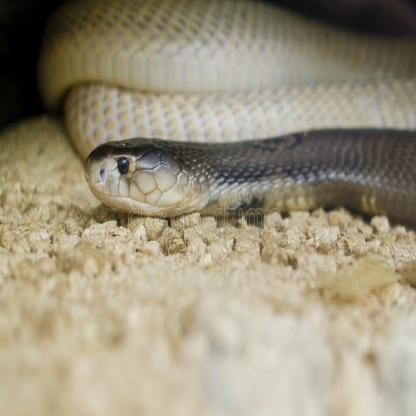Snake: (41, 0, 416, 216)
